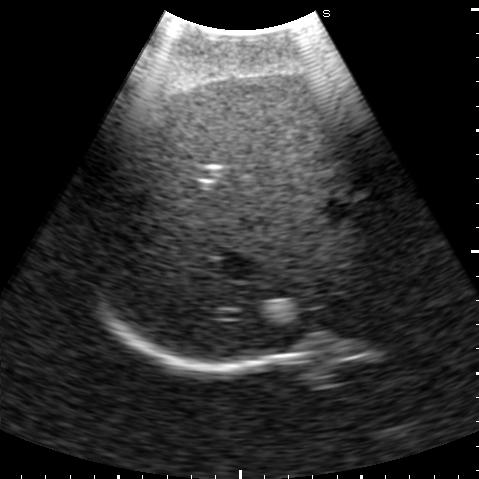S5: (145, 76, 346, 179)
S7: (92, 159, 199, 318)
S8: (165, 162, 374, 359)
Tumor: (260, 297, 297, 327)
